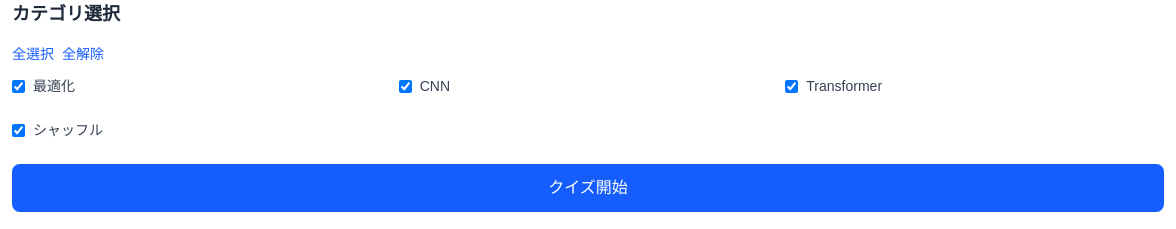
Test case: QuizSetup › 全解除ボタンで全チェック外れる
Click the button "全解除".
click(83, 54)  # box 62,44 -> 104,64
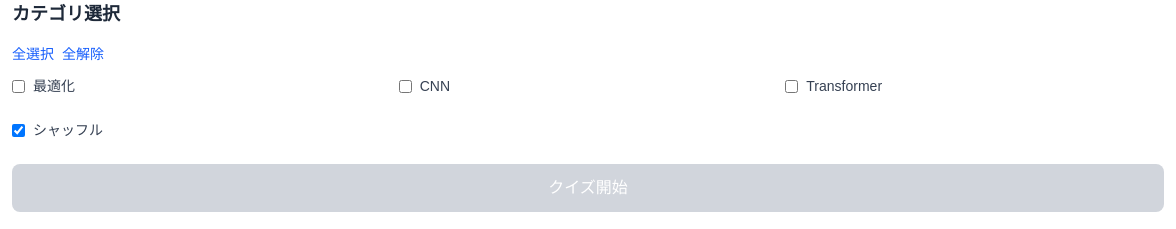
Result: the checkbox labelled "最適化" is not checked at 12,80 -> 25,92
Result: the checkbox labelled "CNN" is not checked at 399,80 -> 412,92
Result: the checkbox labelled "Transformer" is not checked at 785,80 -> 798,92
